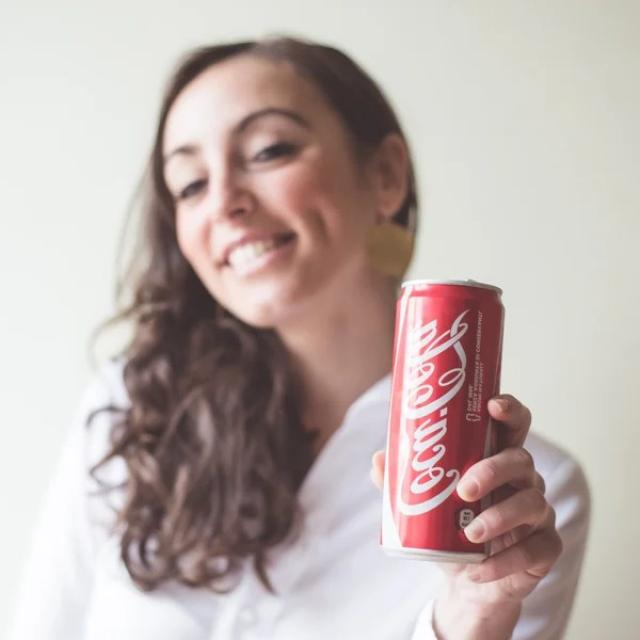coca cola: (380, 294, 487, 527)
